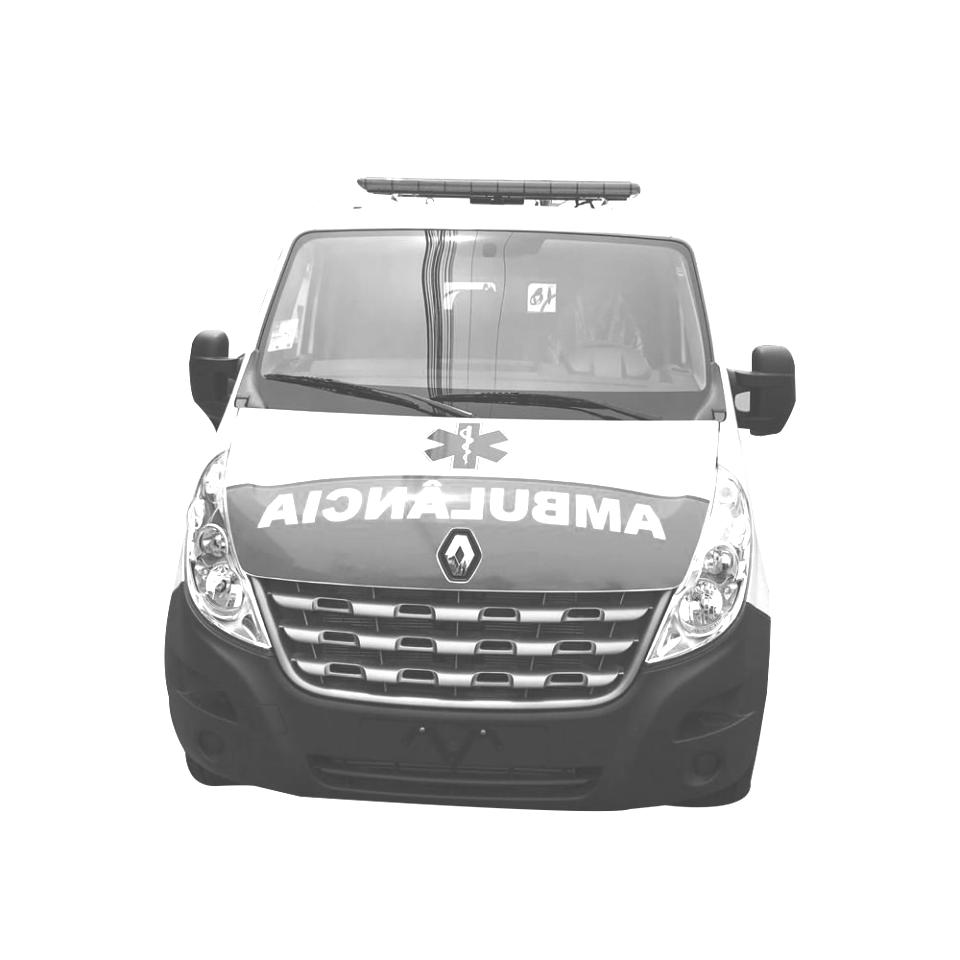ambulancia: (163, 175, 798, 812)
